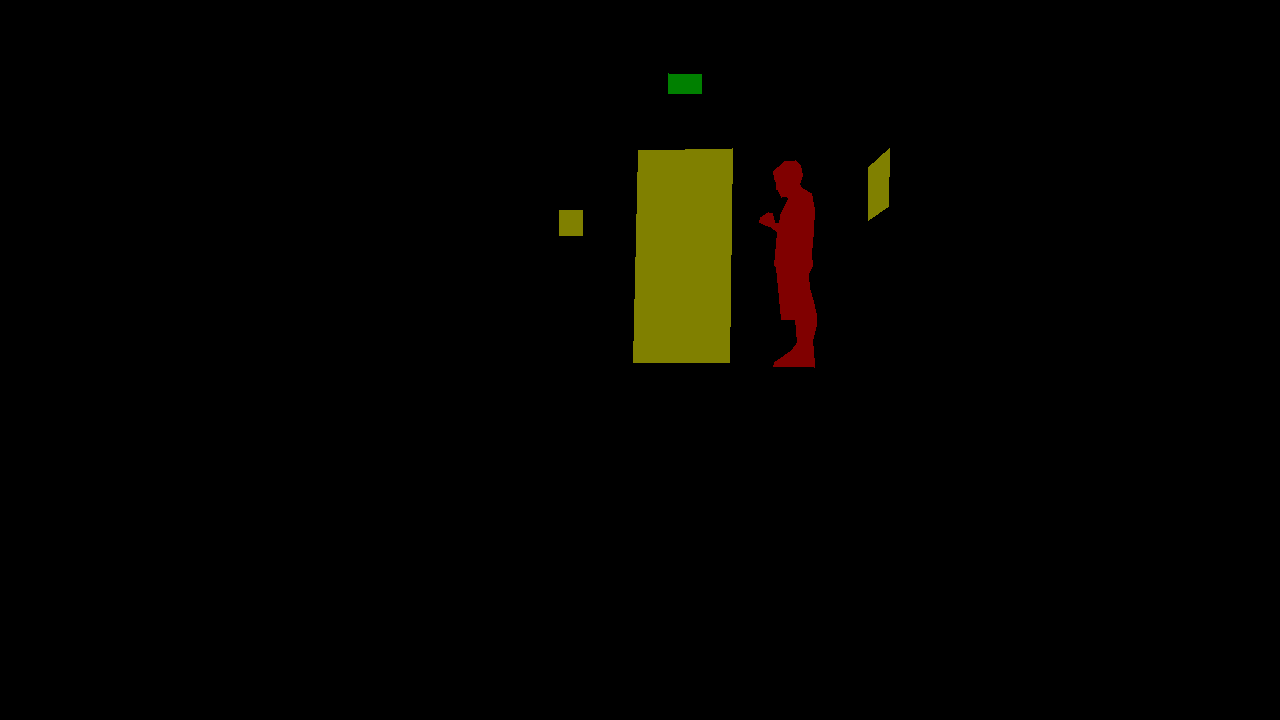door: (633, 148, 732, 362)
person: (759, 160, 816, 367)
sign: (868, 148, 889, 220), (670, 196, 697, 222), (668, 73, 701, 93), (559, 210, 582, 235)
